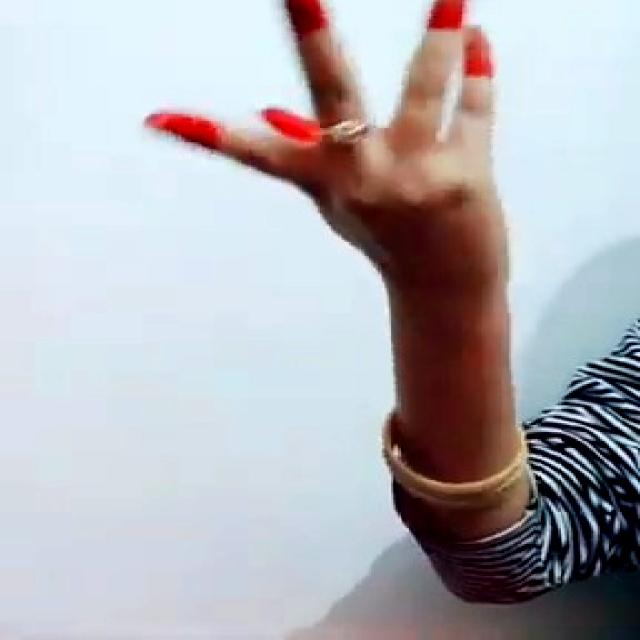Alapadma: (143, 0, 568, 216)
bangle: (359, 398, 540, 517)
